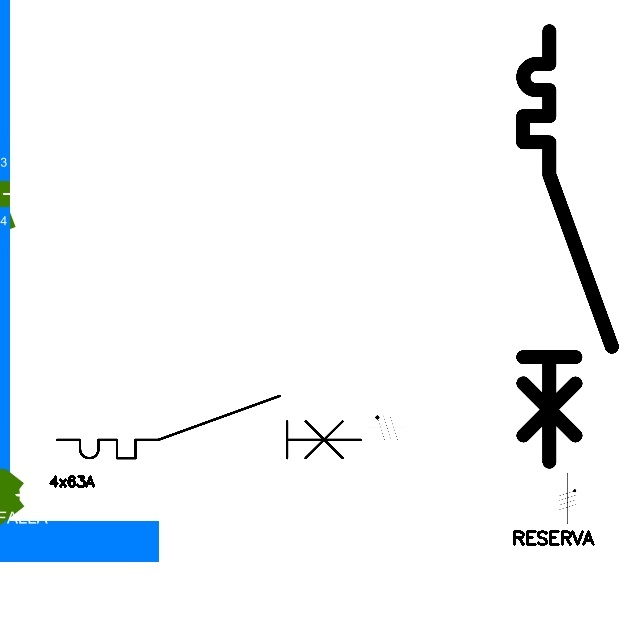interruptor_termomagnetico: (512, 20, 623, 473), (49, 388, 368, 466)
